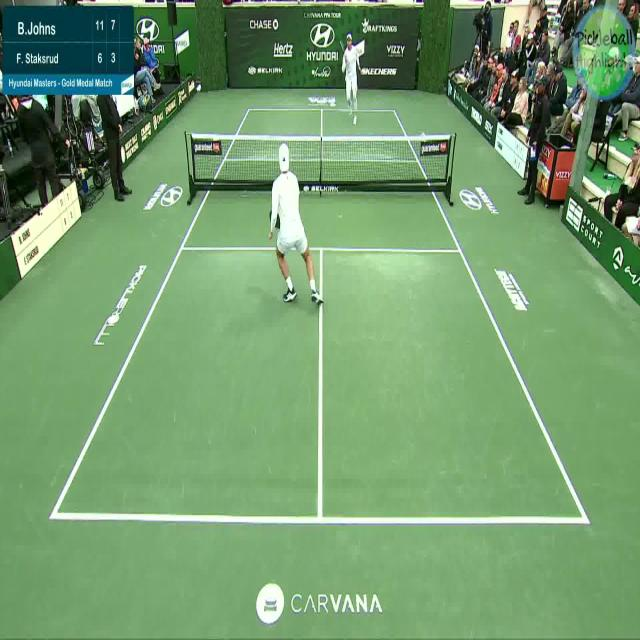ball: (311, 66, 316, 78)
